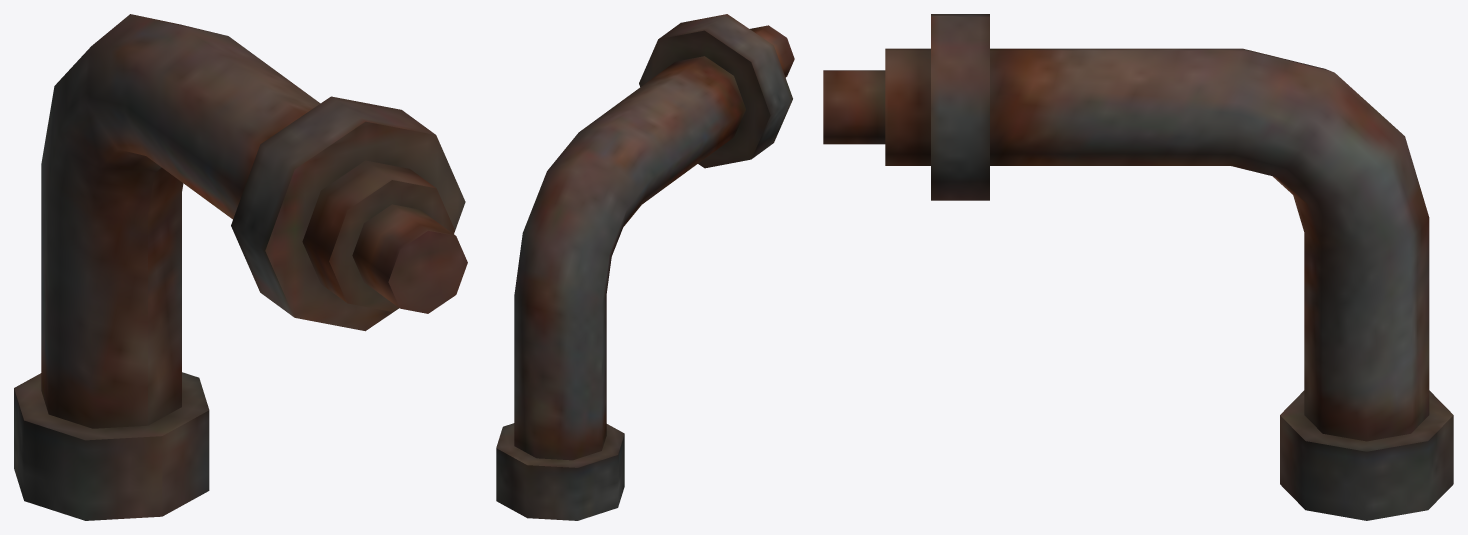
File: ValveHolder.FBX
The picture shows the model from 3 angles, left to right: view 1: azimuth 30°, elevation 25°; view 2: azimuth 150°, elevation 25°; view 3: azimuth 270°, elevation 25°; orthographic projection. The views are drawn at different scales.
Parts seen in each view (by area): view 1: ValveHolder; view 2: ValveHolder; view 3: ValveHolder.
Part boxes in pixels (left/top/right/bottom): ValveHolder: left=14, top=14, right=467, bottom=520; ValveHolder: left=496, top=14, right=794, bottom=520; ValveHolder: left=823, top=14, right=1453, bottom=520.
Size of the model in its own units: 12.22 by 31.71 by 38.8.
